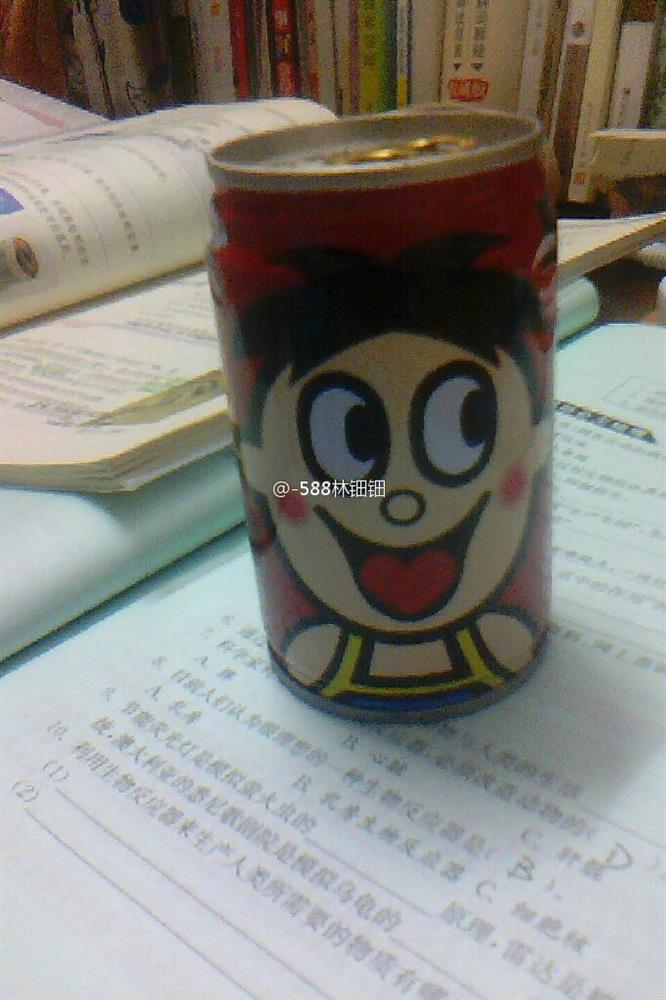wangzai: (217, 224, 558, 711)
